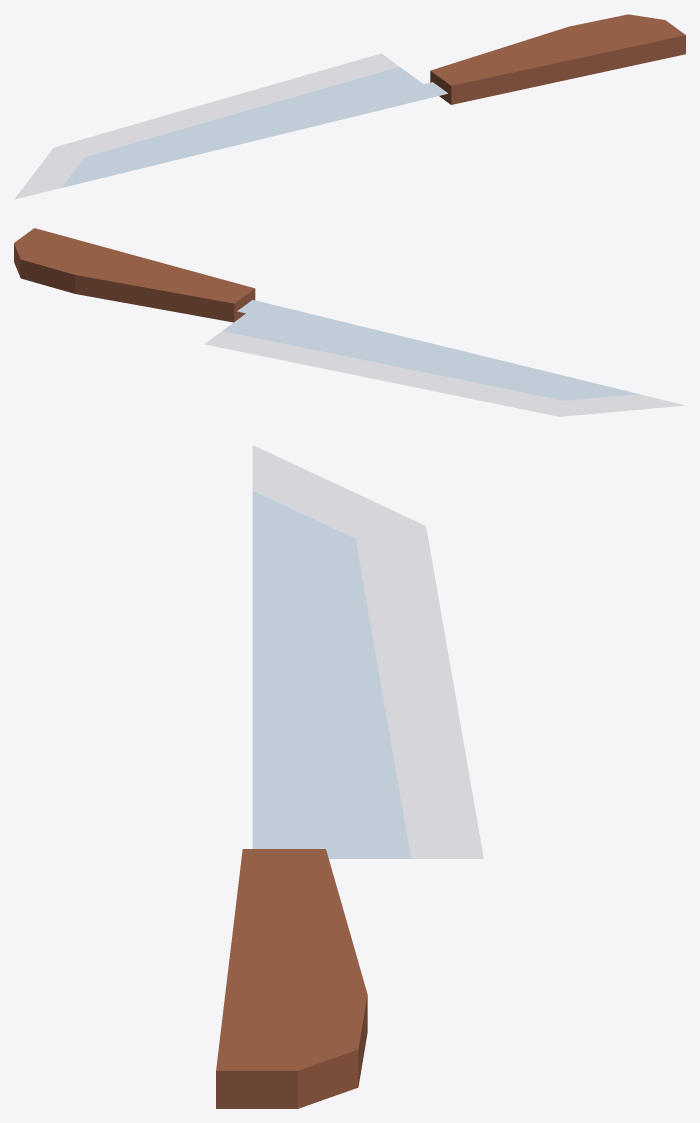
Rendered from cookingKnife.dae.
The picture shows the model from 3 angles, top to bottom: view 1: azimuth 30°, elevation 25°; view 2: azimuth 150°, elevation 25°; view 3: azimuth 270°, elevation 25°; orthographic projection. The views are drawn at different scales.
Visible parts, largest first — view 1: cookingKnife; view 2: cookingKnife; view 3: cookingKnife.
Boxes of the visible parts, bbox=[...] form: cookingKnife: bbox=[14, 14, 685, 199]; cookingKnife: bbox=[14, 228, 685, 416]; cookingKnife: bbox=[216, 445, 483, 1108].
Size of the model in its own units: 0.7262 by 0.02 by 0.1275.
